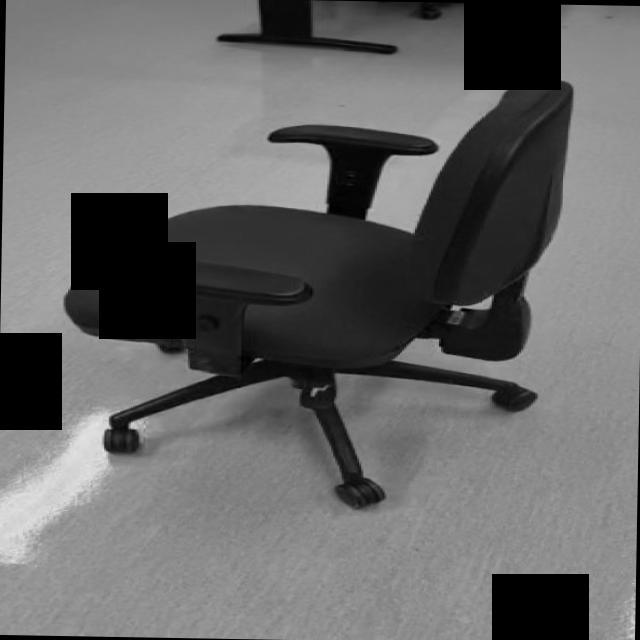chair: (64, 70, 574, 510)
